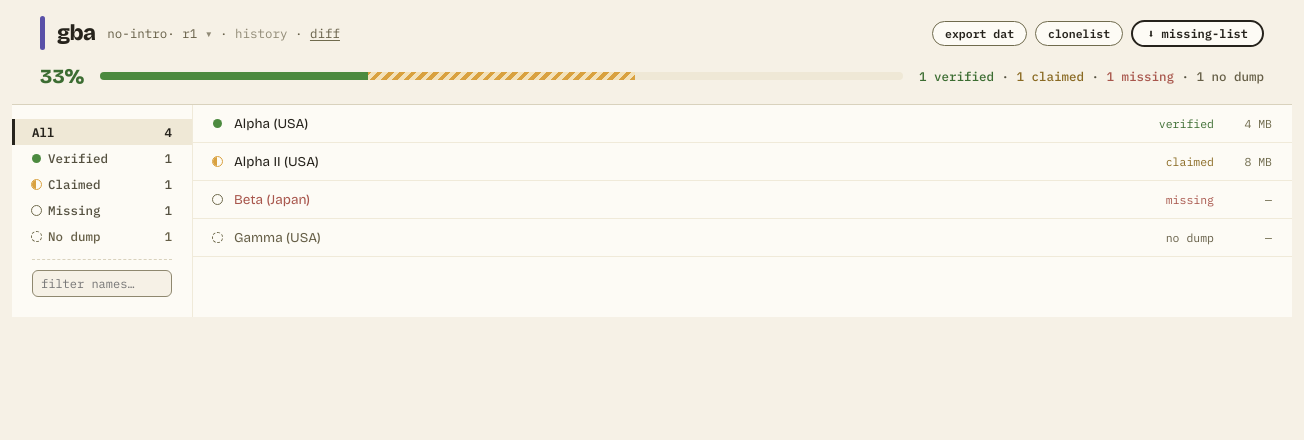
the diff action shows what changed between the two newest revisions
This screenshot has width=1304, height=440.
Expected: the text "Alpha (USA)" is shown, [234,115,308,132]
Click the button "diff" at (325, 33), box [310,25,340,41]
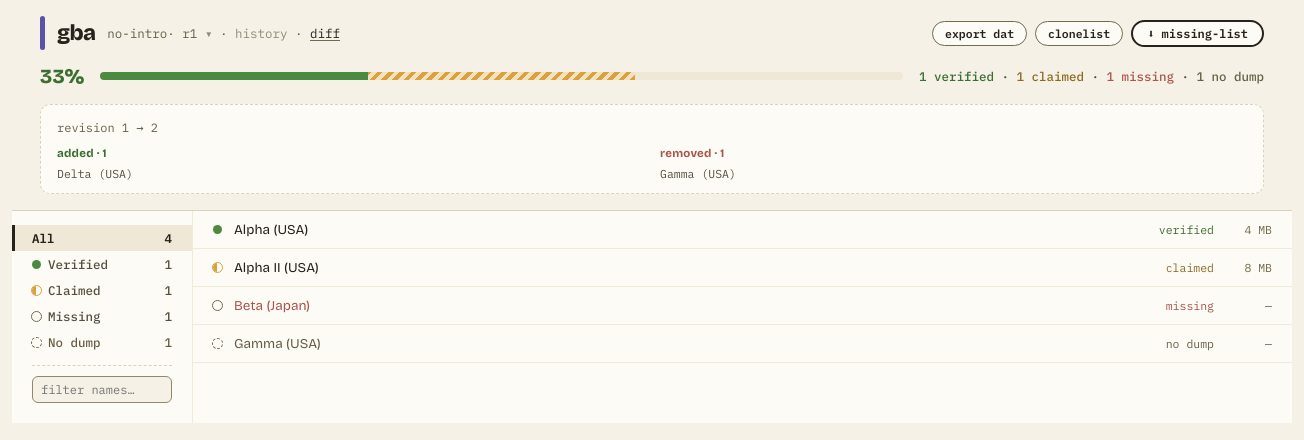
Result: the text "revision 1 → 2" is shown at [57,120,158,135]
Result: the text "Delta (USA)" is shown at [57,166,133,181]
Result: the text "Gamma (USA)" below "removed · 1" is shown at [660,166,736,181]
